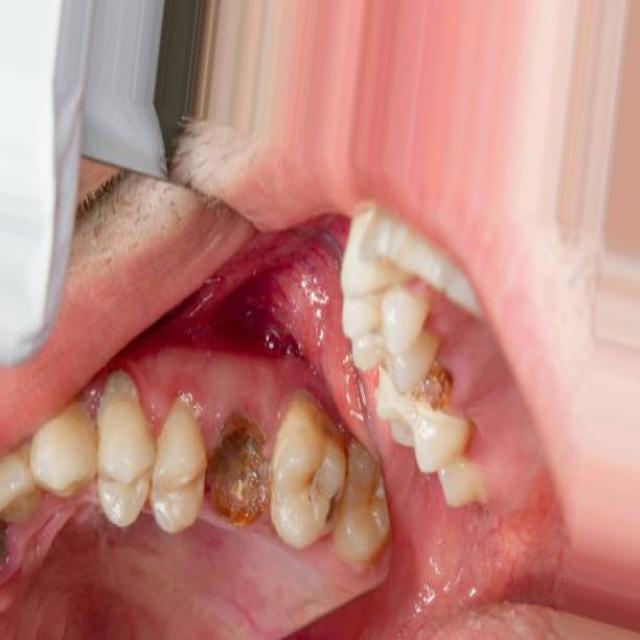caries: (201, 405, 270, 532), (408, 349, 460, 417), (318, 480, 349, 540)
